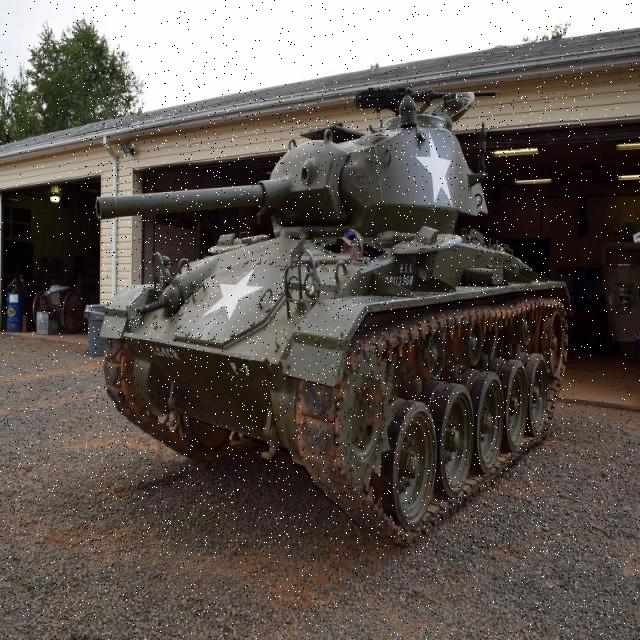MIL_MBT: (85, 93, 571, 555)
